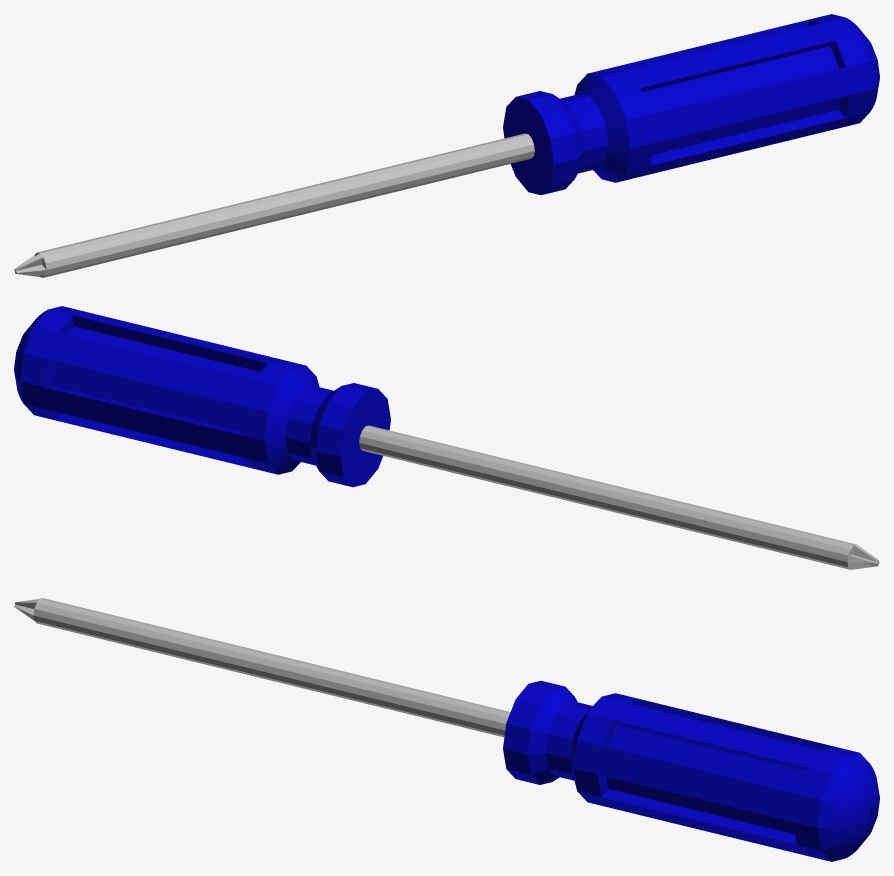
File: Screwdriver2.dae
3 renders of one model, top to bottom at view 1: azimuth 30°, elevation 25°; view 2: azimuth 150°, elevation 25°; view 3: azimuth 330°, elevation 25°, orthographic.
Parts seen in each view (by area): view 1: Handle, useful_bit; view 2: Handle, useful_bit; view 3: Handle, useful_bit.
Boxes of the visible parts, left/top/right/bottom form: Handle: left=503, top=14, right=879, bottom=195; useful_bit: left=14, top=133, right=534, bottom=277; Handle: left=14, top=306, right=390, bottom=487; useful_bit: left=359, top=425, right=879, bottom=569; Handle: left=503, top=680, right=879, bottom=861; useful_bit: left=14, top=598, right=510, bottom=737.
Size of the model in its own units: 8.75 by 1 by 1.
